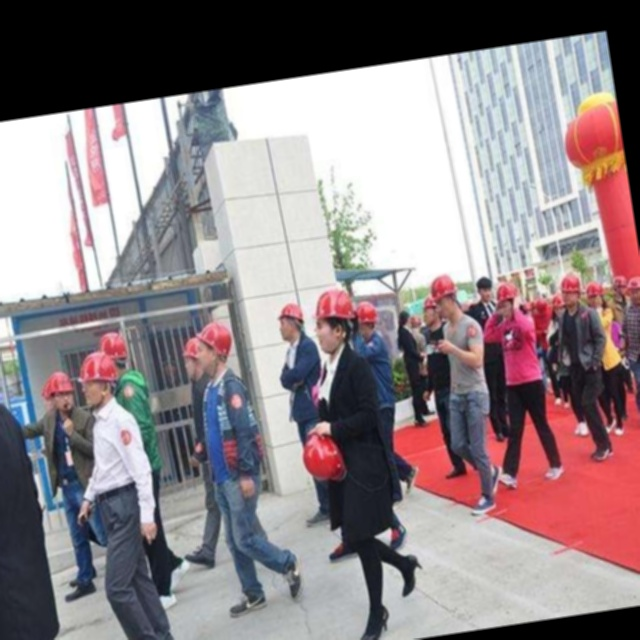Con_Casco: (308, 286, 360, 350), (428, 272, 460, 321)
